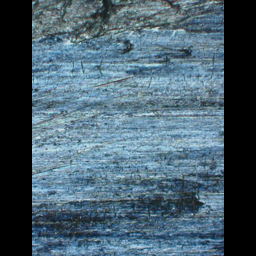d: (32, 0, 222, 40)
